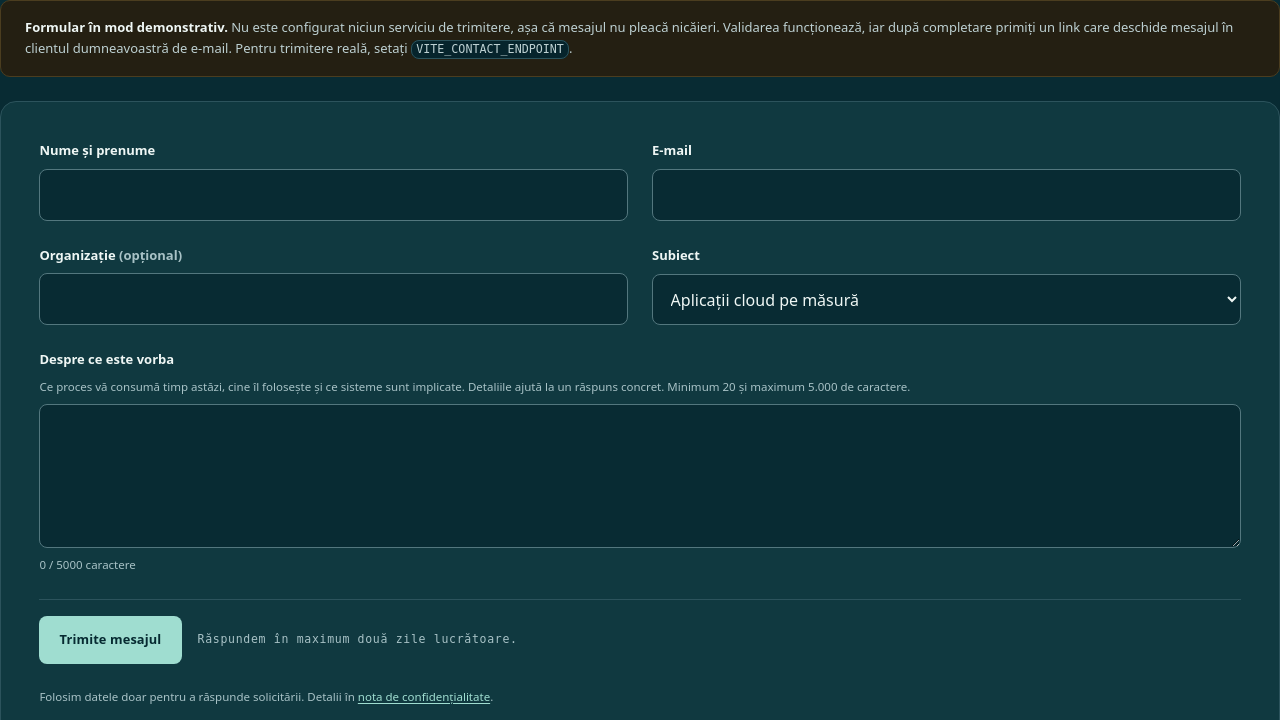
<ContactForm /> › rulează demonstrativ, fără să trimită nimic, când endpoint-ul lipsește
The width and height of the screenshot is (1280, 720).
Type "Ana Popescu" into the field labelled "Nume și prenume" at (334,195), box [39,169,628,221]
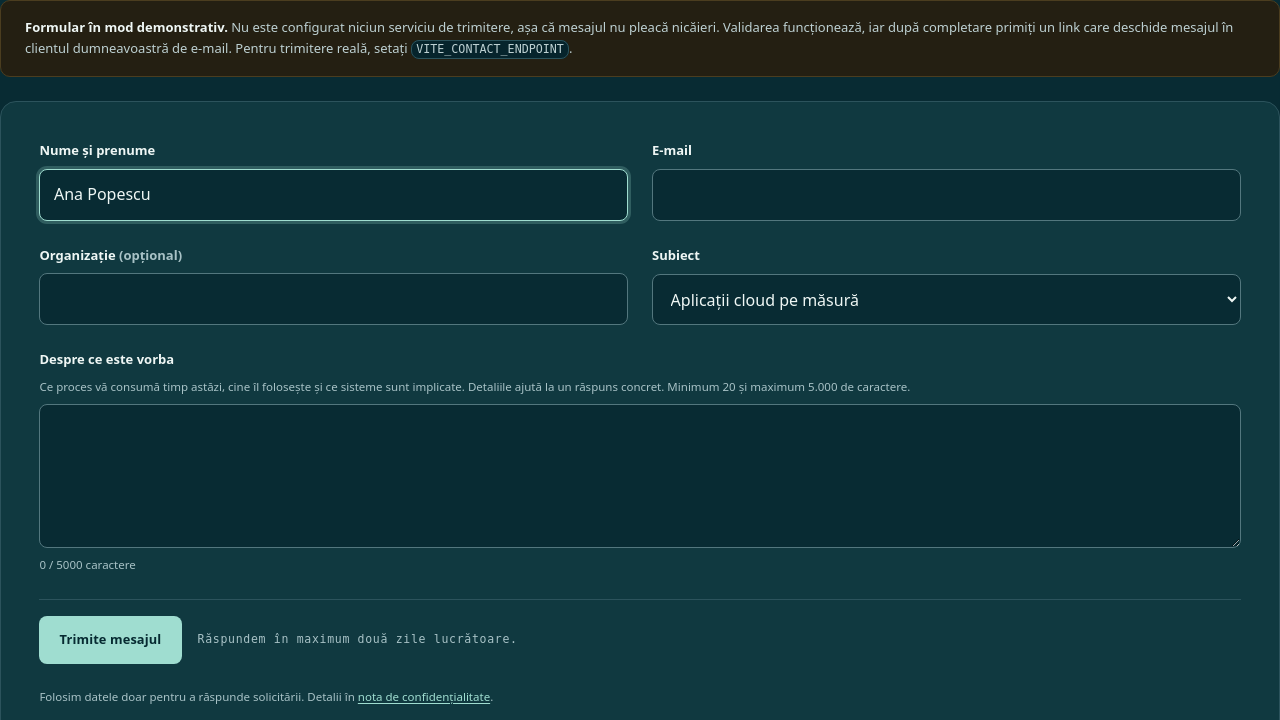
Type "ana@exemplu.ro" into the field labelled "E-mail" at (946,195), box [652,169,1241,221]
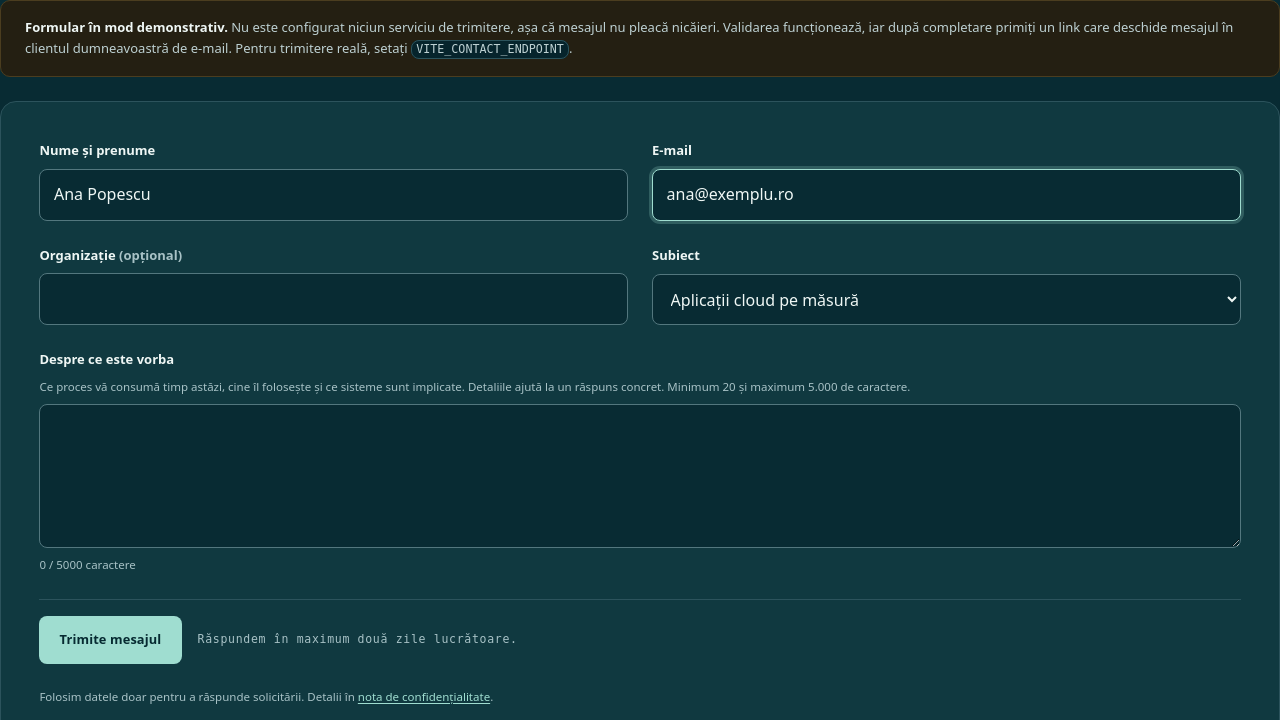
Type "Introducem manual facturile primite pe e-mail în programul de contabilitate." into the text box labelled "Despre ce este vorba" at (640,476), box [39,404,1241,548]
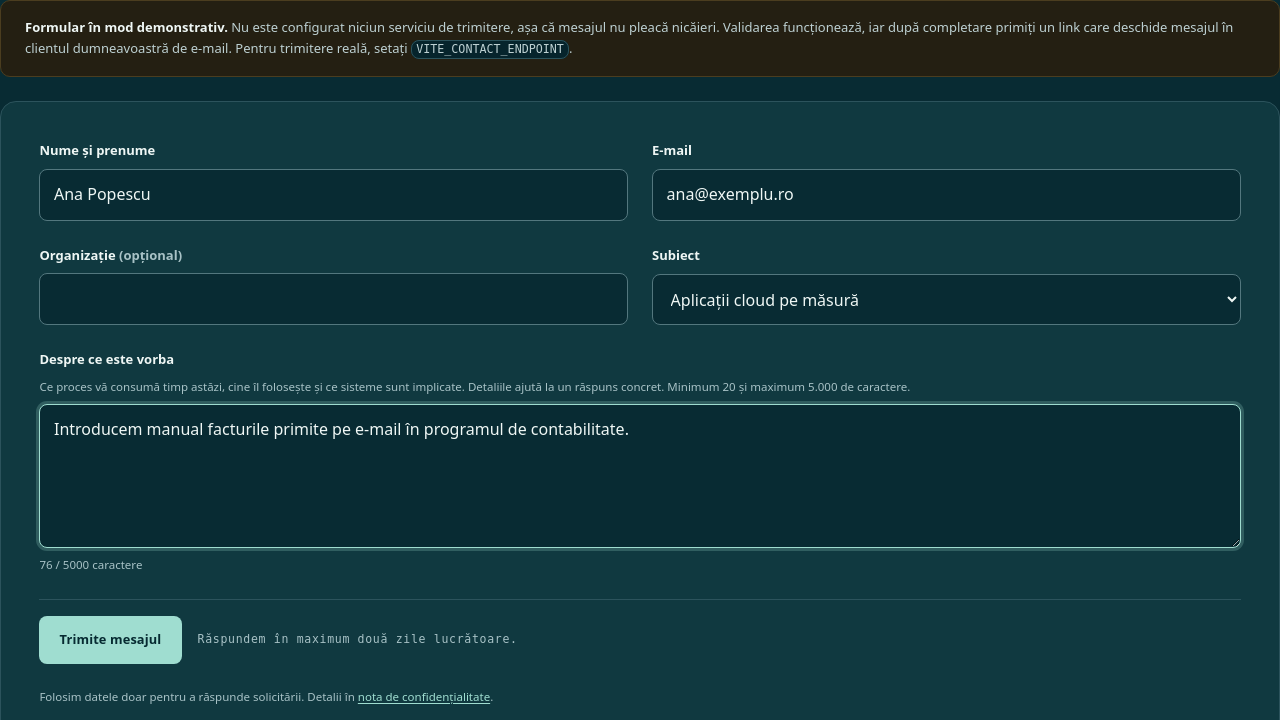
Click the button "Trimite mesajul" at (110,640), box [39,616,182,664]
(page scrolled)
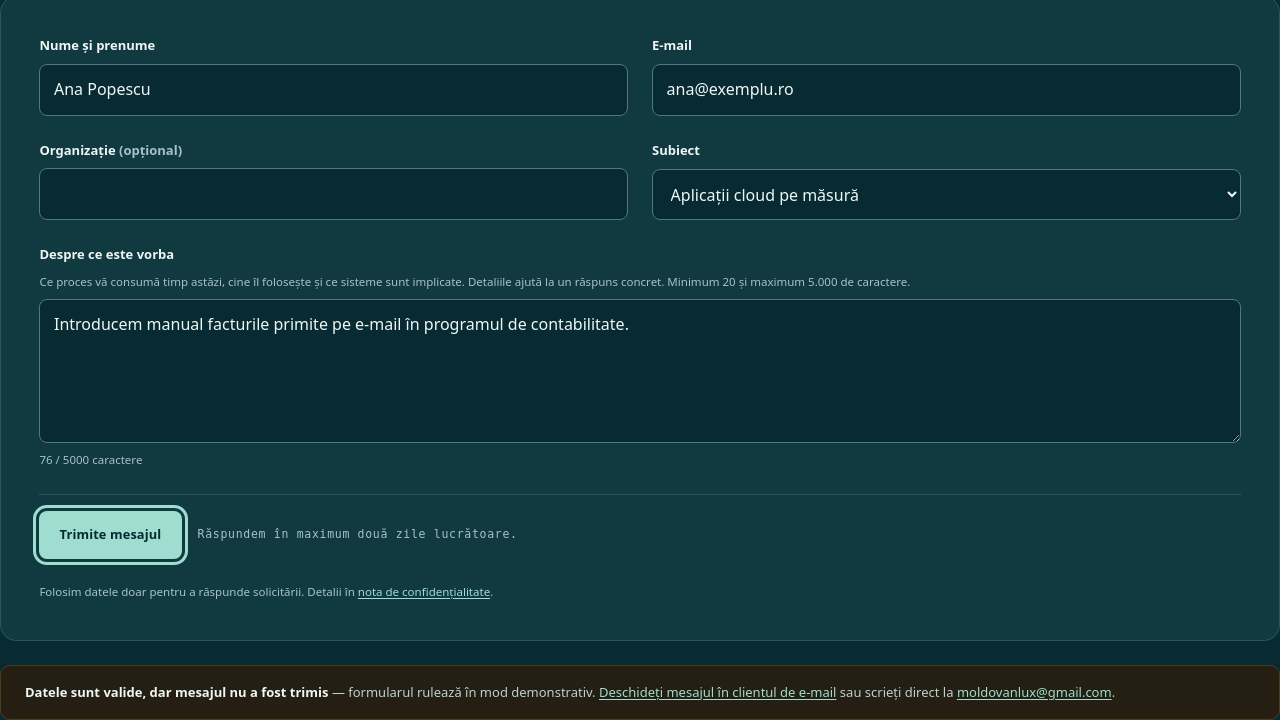
Result: the message shows "nu a fost trimis" at [25,682,328,700]
